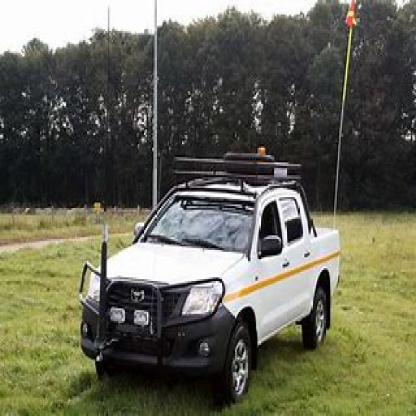light_vehicle: (74, 139, 346, 401)
